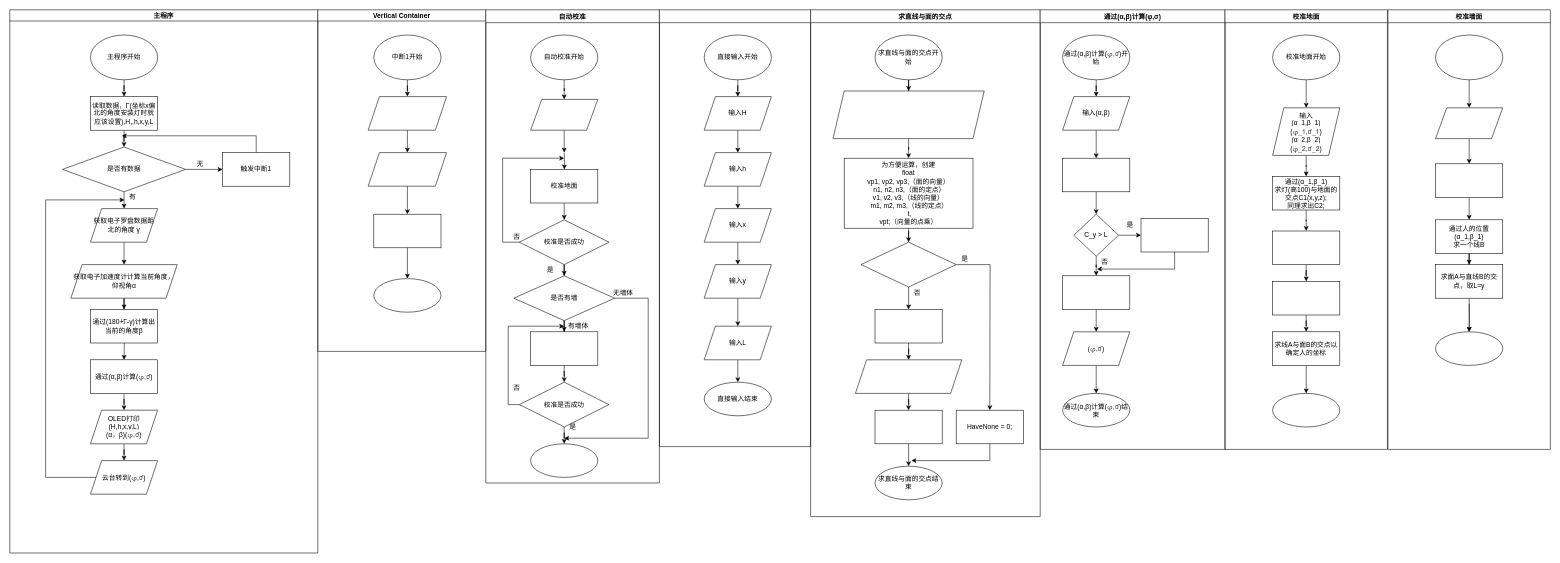
Some shapes in this 1560 by 563 pixel diagram are drawn without their labels. Each missing label, with the centre of its shape:
"HaveNone = 1;" belongs at point (908, 427).
"OLED显示出设定Γ 并开始设定" belongs at point (407, 113).
"t = ((n1 - m1) * vp1 + (n2 - m2) * vp2 + (n3 - m3) * vp3) / vpt；" belongs at point (908, 326).
"turnback[0] = m1 + v1 * t; turnback[1] = m2 + v2 * t; turnback[2] = m3 + v3 * t;" belongs at point (908, 376).
"vpt == 0" belongs at point (908, 264).
"中断结束" belongs at point (407, 295).
"校准地面结束" belongs at point (1306, 410).
"校准墙体" belongs at point (564, 348).
"校准墙面开始" belongs at point (1469, 57).
"校准墙面结束" belongs at point (1469, 348).
"根据输入跳转" belongs at point (407, 231).
"求直线与地面的交点 C(x,y,z)" belongs at point (1096, 175).
"求直线与墙的交点C(x,y)" belongs at point (1174, 235).
"直接输入" belongs at point (735, 228).
"自动校准结束" belongs at point (564, 460).
"输入 (α_1,β_1) ( φ_1,σ_1 )" belongs at point (1469, 123).
"输入是否有墙" belongs at point (564, 114).
"返回位置， 平面的法线向量,平面上的点， 直线方向向量，直线上的点" belongs at point (908, 114).
"选择设定模式， 1.直接输入 2.自动校准" belongs at point (407, 169).
"通过C1与(α_1,β_1) 求出直线A(C1,x,y,z)" belongs at point (1306, 247).
"通过C2与(α_1,β_1) 求出面B(C2,x,y,z)" belongs at point (1306, 298).
"通过灯的位置( φ_1,σ_1 ) 求一个面A" belongs at point (1469, 180).
"通过点C(x,y,z)求( φ,σ )" belongs at point (1096, 292).
